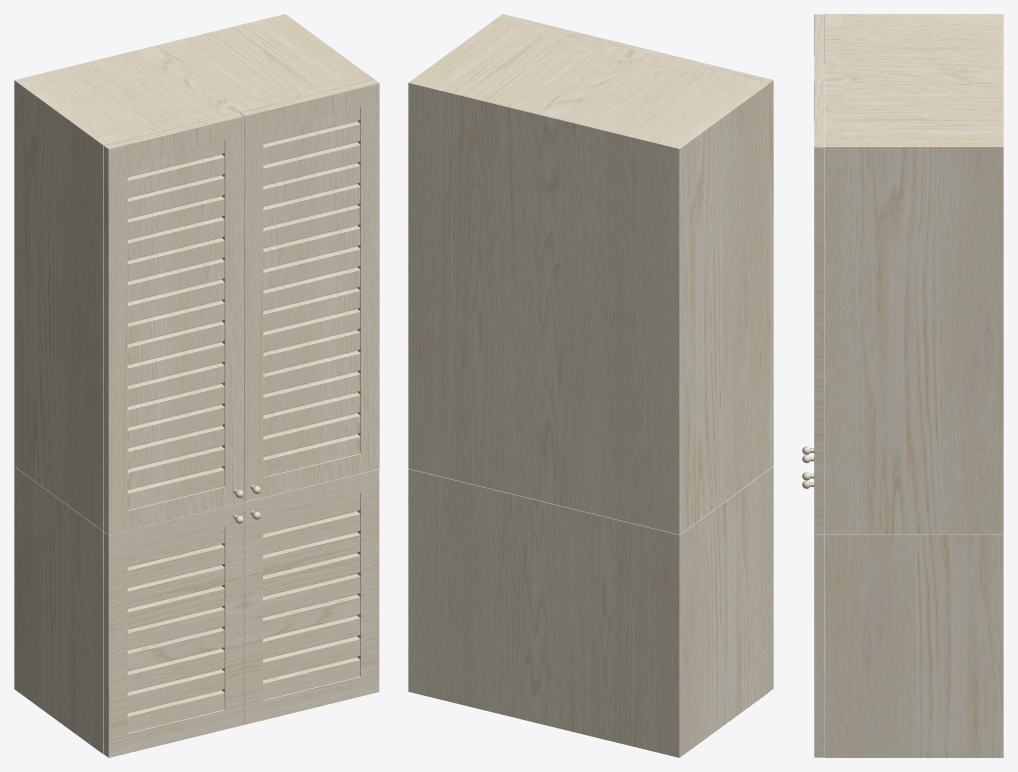
The model's file is aws_Wardrobe_01_visual.DAE.
The picture shows the model from 3 angles, left to right: view 1: azimuth 30°, elevation 25°; view 2: azimuth 150°, elevation 25°; view 3: azimuth 270°, elevation 25°; orthographic projection.
Visible parts, largest first — view 1: aws_Wardrobe_01_visual; view 2: aws_Wardrobe_01_visual; view 3: aws_Wardrobe_01_visual.
Part boxes in pixels (x1=…): aws_Wardrobe_01_visual: x1=14, y1=14, x2=379, y2=757; aws_Wardrobe_01_visual: x1=408, y1=14, x2=773, y2=757; aws_Wardrobe_01_visual: x1=802, y1=14, x2=1003, y2=757.
Size of the model in its own units: 99.9 by 63.98 by 214.
Materials: 1 (1 with a texture image).
